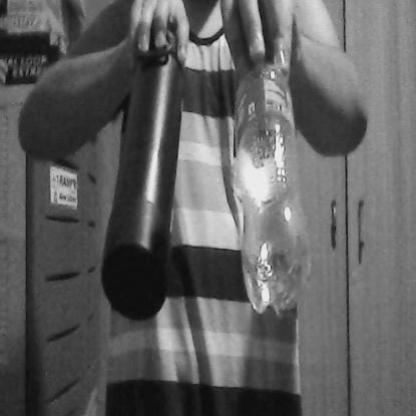Plastic Bottle: (220, 14, 313, 335)
